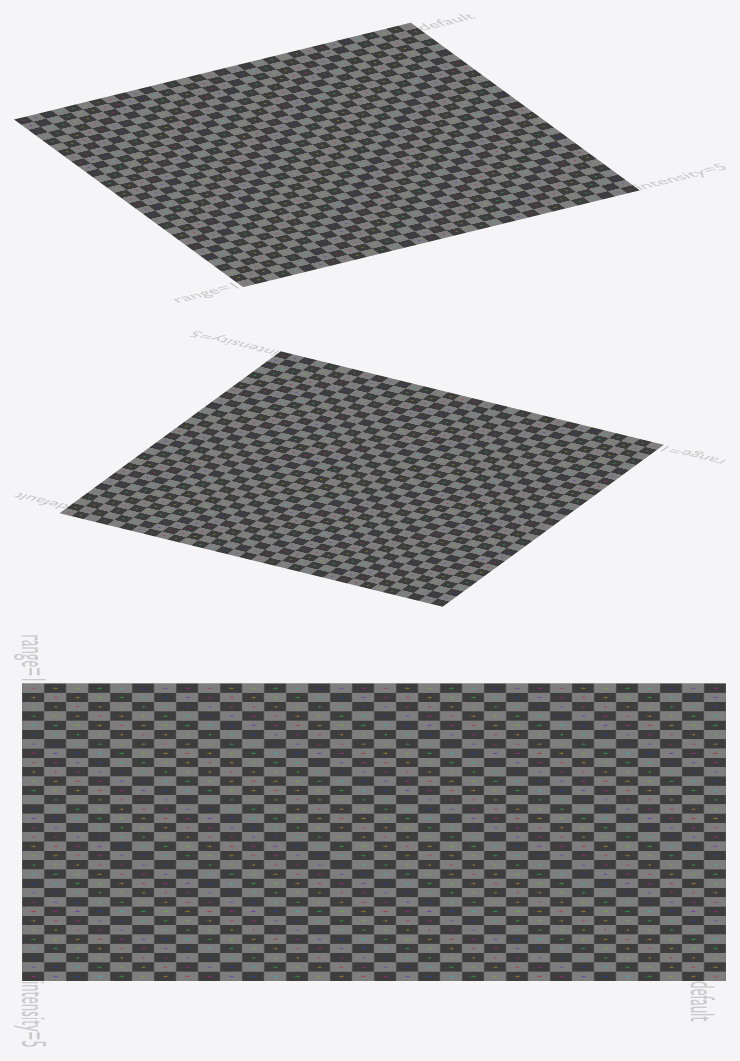
The model's file is PointLightTest.gltf.
The picture shows the model from 3 angles, top to bottom: view 1: azimuth 30°, elevation 25°; view 2: azimuth 150°, elevation 25°; view 3: azimuth 270°, elevation 25°; orthographic projection. The views are drawn at different scales.
Visible parts, largest first — view 1: Plane; view 2: Plane; view 3: Plane.
Boxes of the visible parts, box(x1,y1,x2,y2) form: Plane: box(14, 22, 639, 286); Plane: box(60, 351, 663, 606); Plane: box(22, 683, 725, 980).
Bounding box in the file's own units: 27.67 × 0 × 20.23.
Materials: 2 (1 with a texture image).
